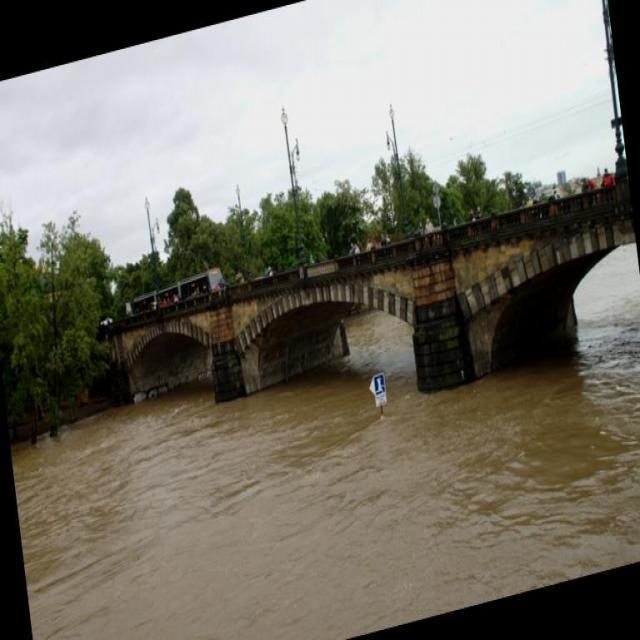flood: (8, 263, 639, 639)
